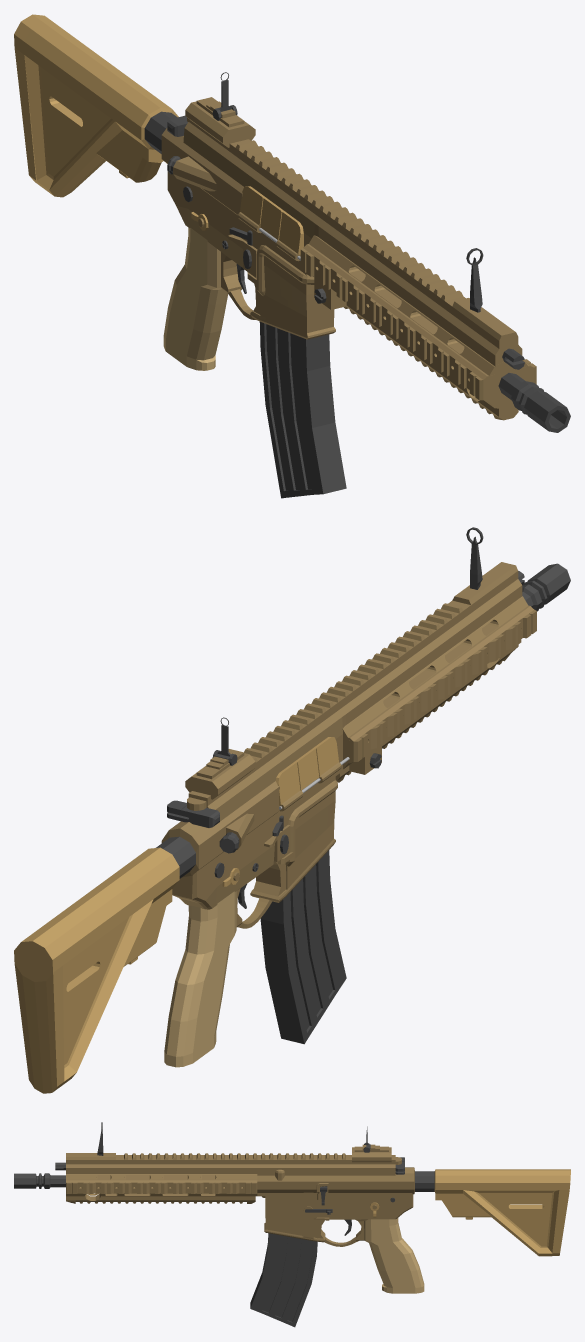
Rendered from fusil.glb.
The picture shows the model from 3 angles, top to bottom: view 1: azimuth 30°, elevation 25°; view 2: azimuth 150°, elevation 25°; view 3: azimuth 270°, elevation 25°; orthographic projection. The views are drawn at different scales.
Parts seen in each view (by area): view 1: Cube.022; view 2: Cube.022; view 3: Cube.022.
Part boxes in pixels (box(x1,y1,x2,y2)): Cube.022: box(14, 14, 570, 498); Cube.022: box(14, 527, 570, 1093); Cube.022: box(14, 1122, 570, 1327).
Size of the model in its own units: 0.0379 by 0.2165 by 0.5425.
1 material, 1 textured.
